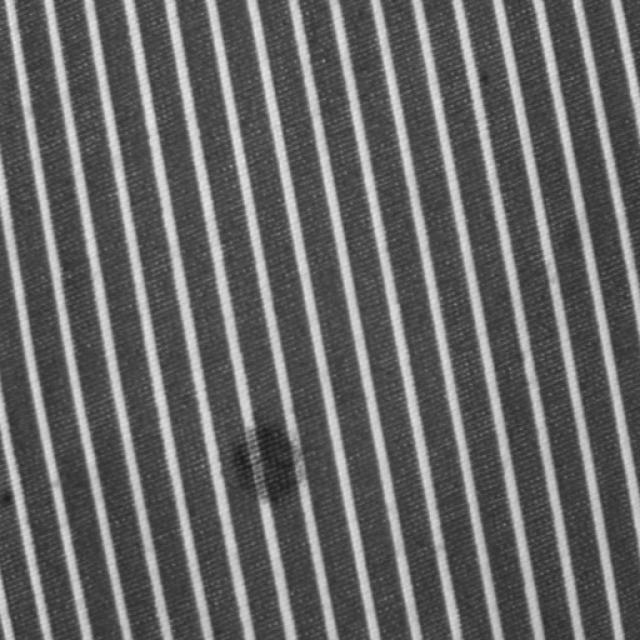Stain-Defect: (232, 424, 305, 501)
